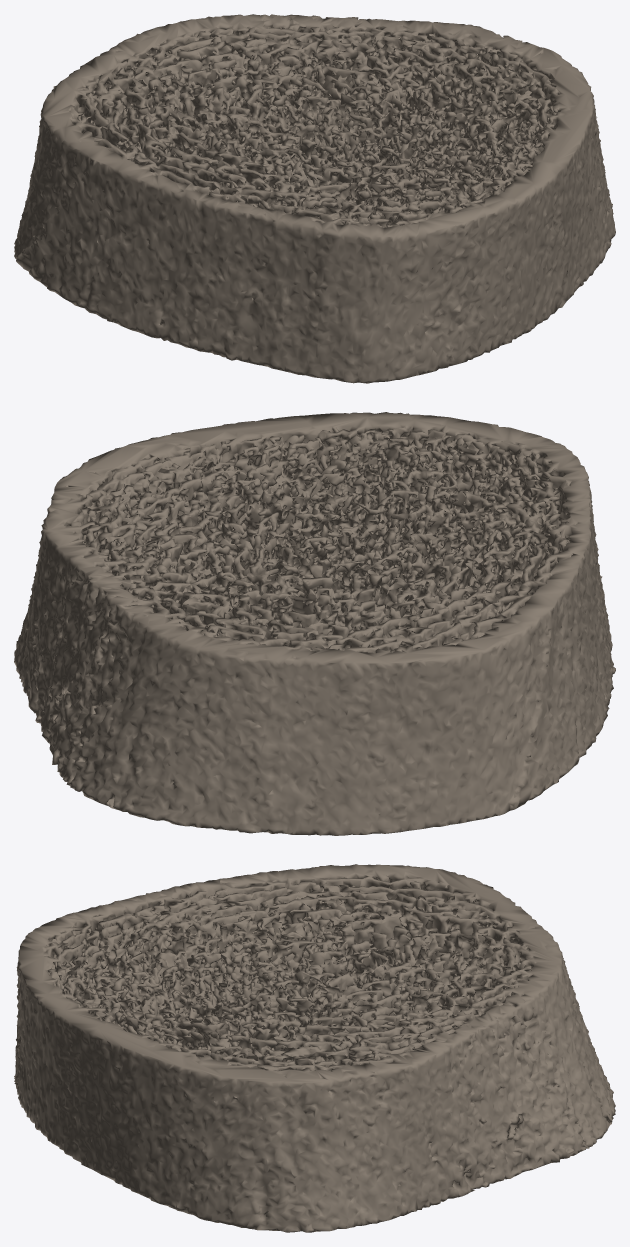
Rendered from bone-structure.glb.
The picture shows the model from 3 angles, top to bottom: view 1: azimuth 30°, elevation 25°; view 2: azimuth 150°, elevation 25°; view 3: azimuth 270°, elevation 25°; orthographic projection. The views are drawn at different scales.
Bounding box in the file's own units: 0.0346 × 0.0091 × 0.0362.
